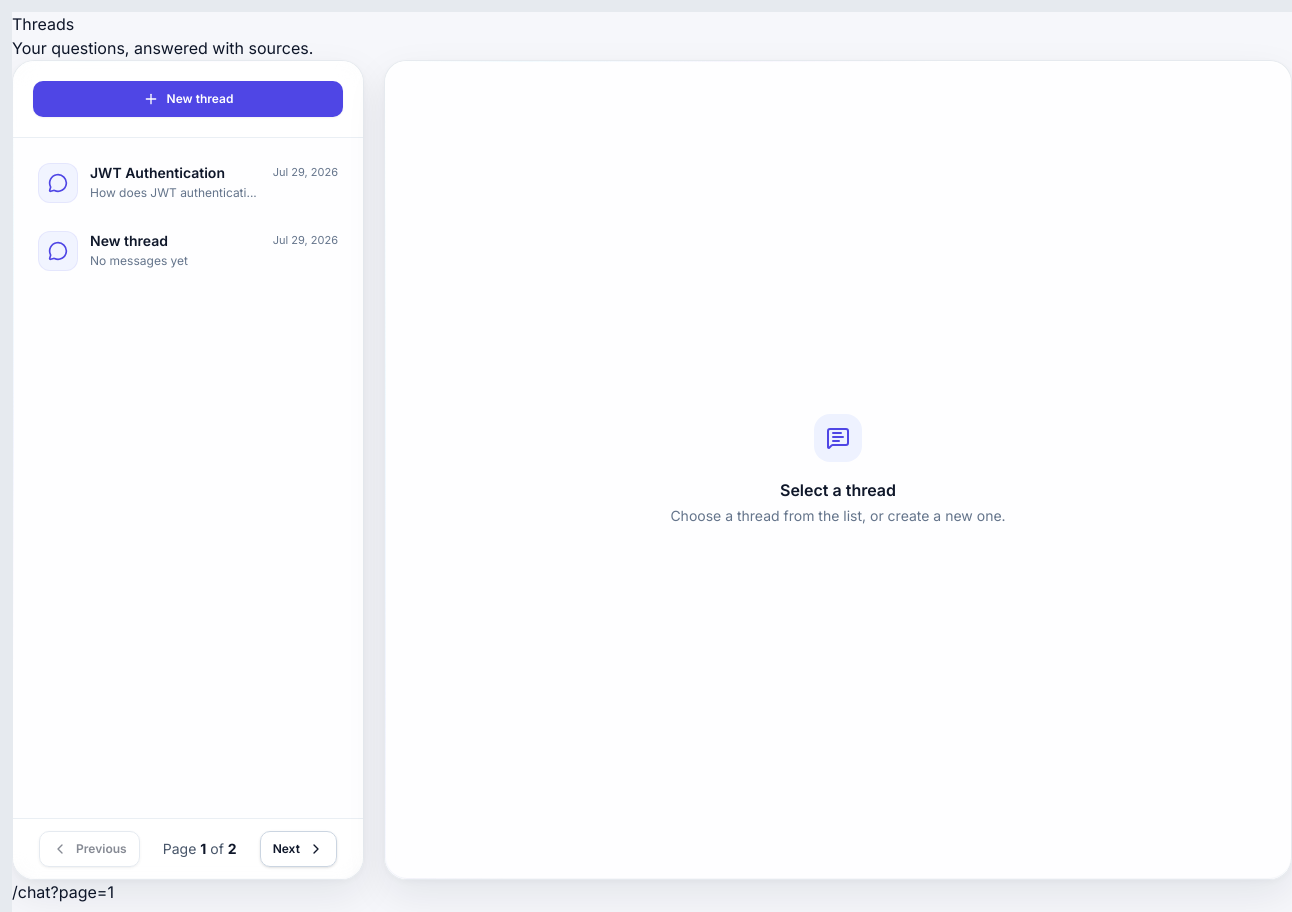
Scenario: Threads page › uses real backend pagination without client-side reordering
Expected: the link "JWT Authentication" is shown, left=25, top=150, right=351, bottom=216
Click the button with aria-label "Go to next page" at (298, 849), box left=260, top=831, right=337, bottom=867
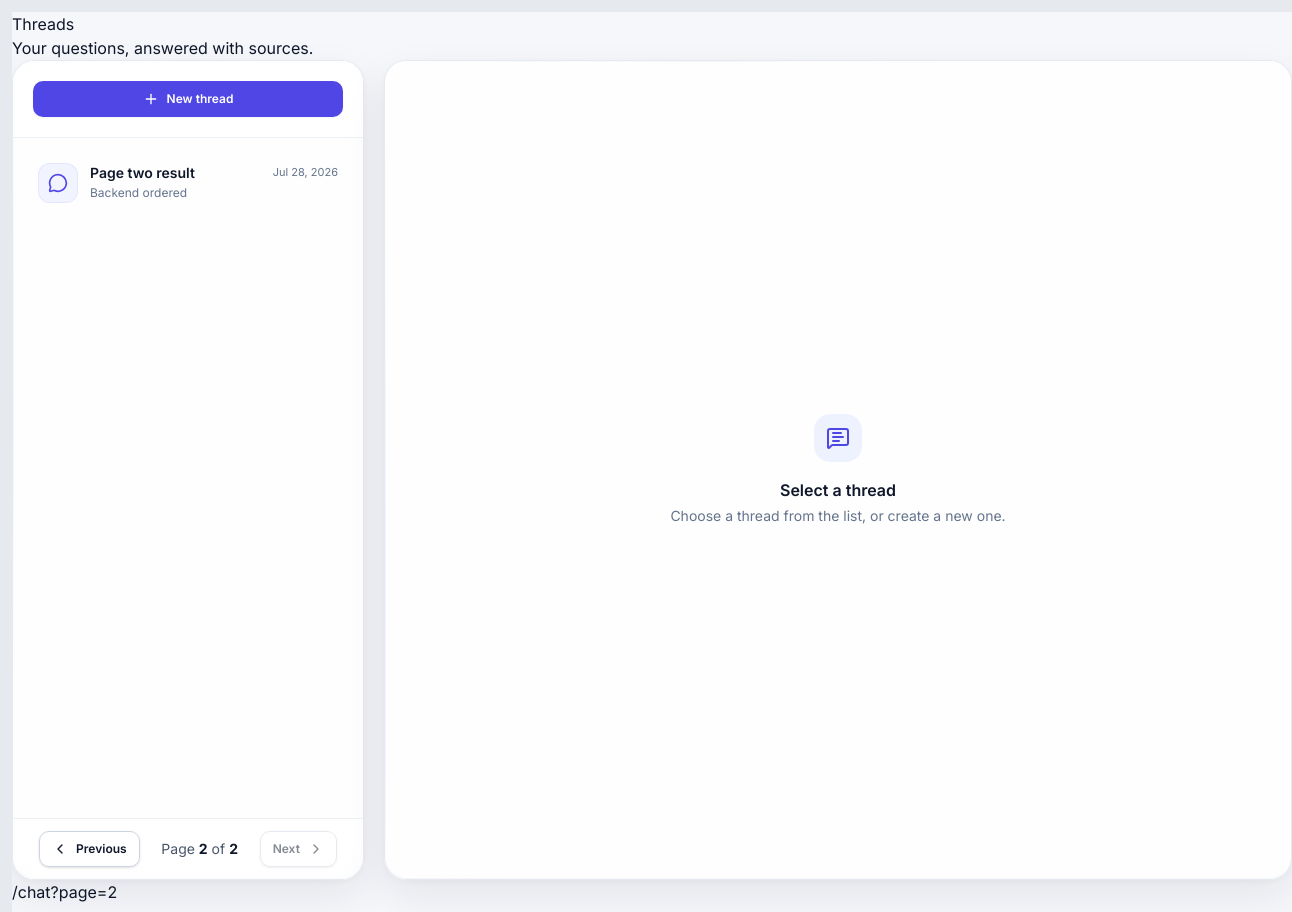
Expected: the link "Page two result Backend ordered Jul 28, 2026" is shown, left=25, top=150, right=351, bottom=216
Expected: the text named "Current location" reads "/chat?page=2", left=12, top=882, right=117, bottom=902
